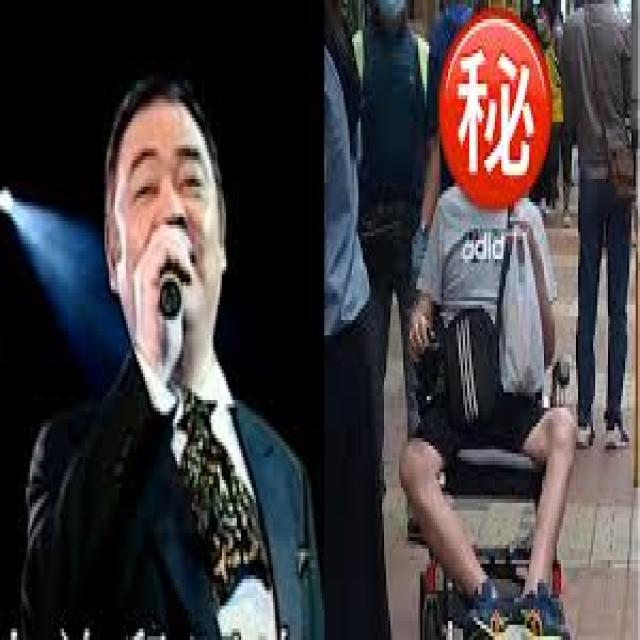wheelchairs: (399, 240, 572, 636)
